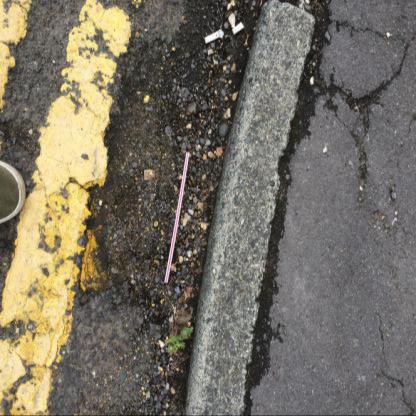Cigarette: (204, 29, 224, 43), (232, 22, 244, 36)
Straw: (165, 153, 190, 284)
